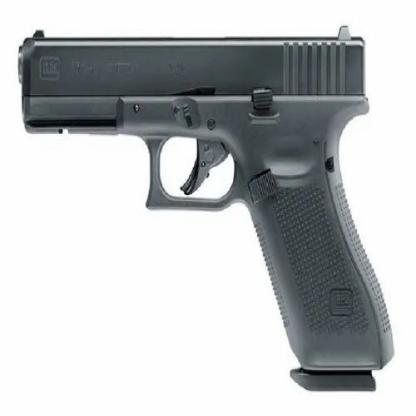handgun: (10, 25, 393, 416)
